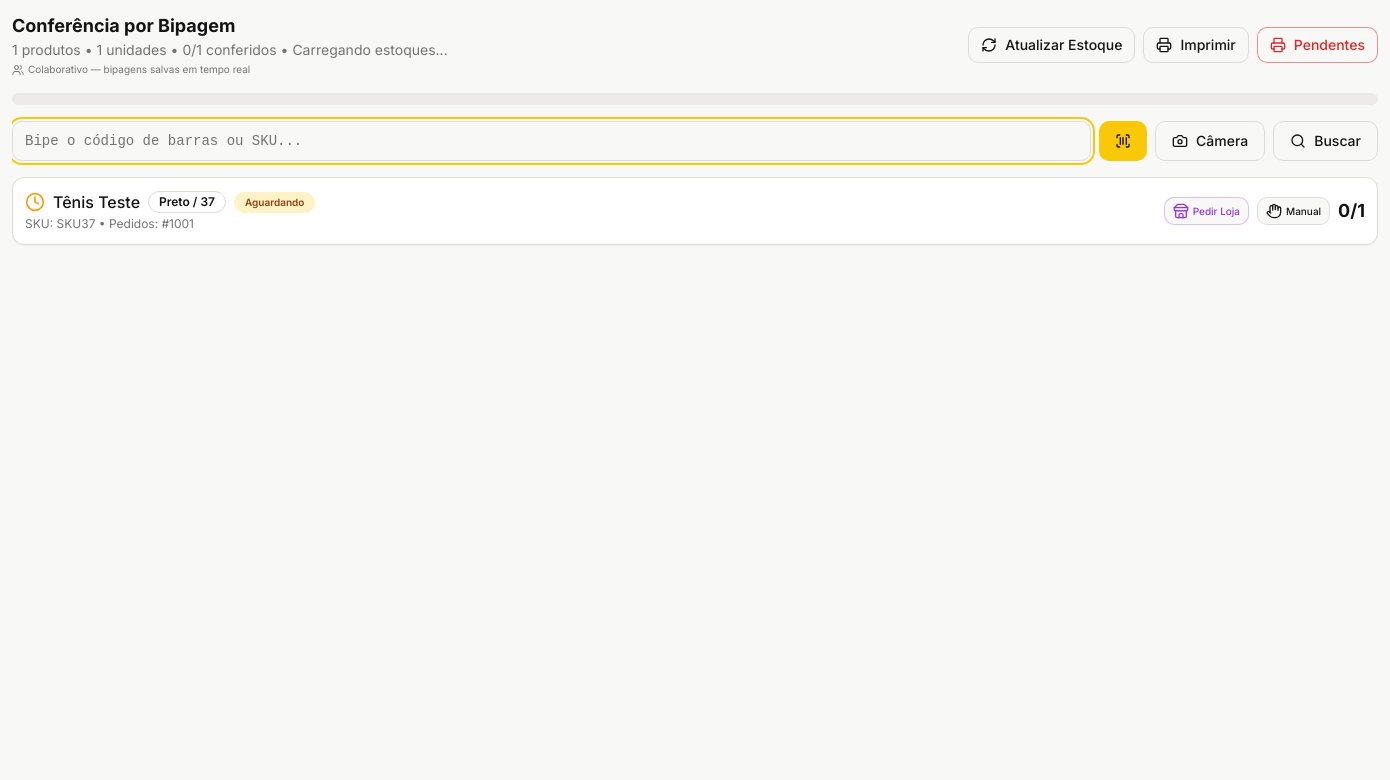
Test: separação clássica e Beta › separação clássica registra confirmação manual
The width and height of the screenshot is (1390, 780).
Later steps or results of the test are not shown.
Click the button titled "Conferir manualmente (sem bipar)". click: (1294, 211)
box: [1257,197,1330,225]
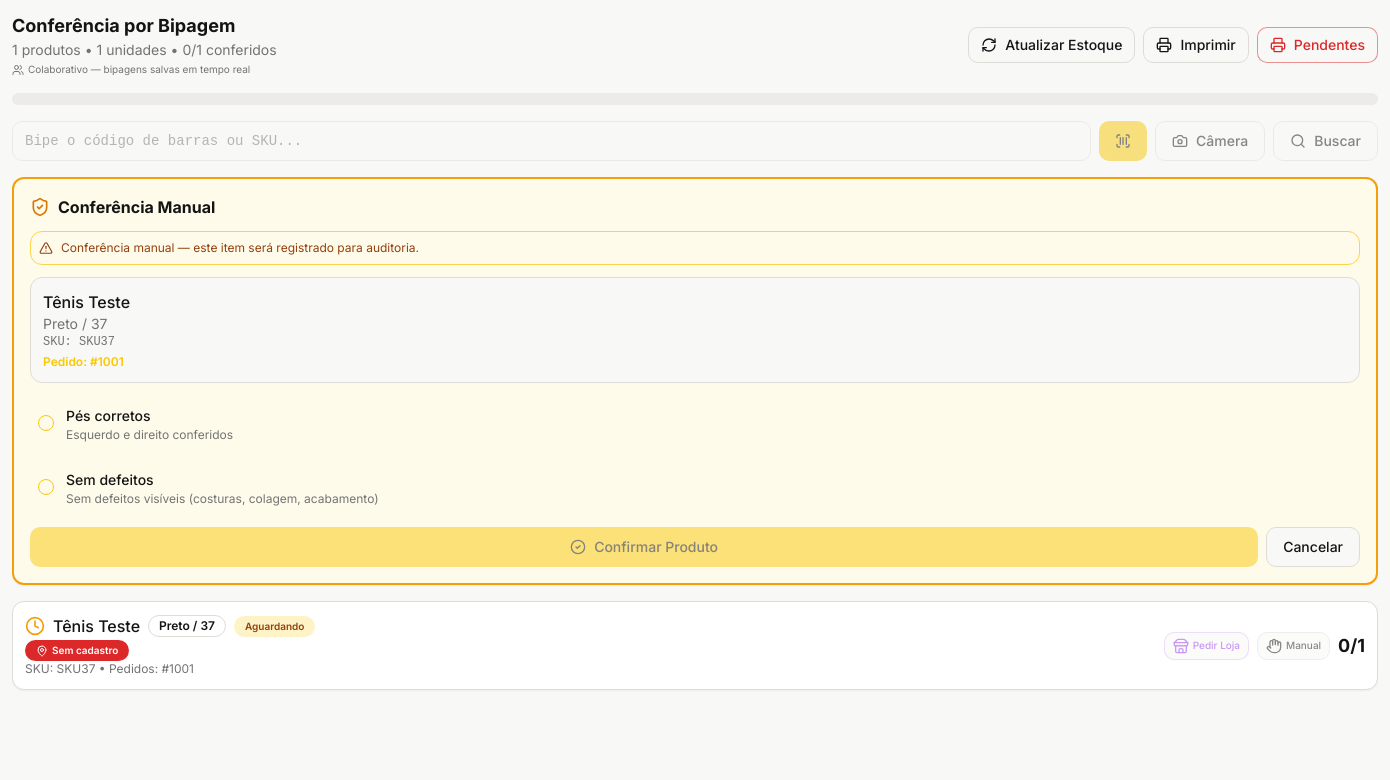
Click the checkbox next to "Pés corretos". click: (46, 423)
box: [38,415,54,431]
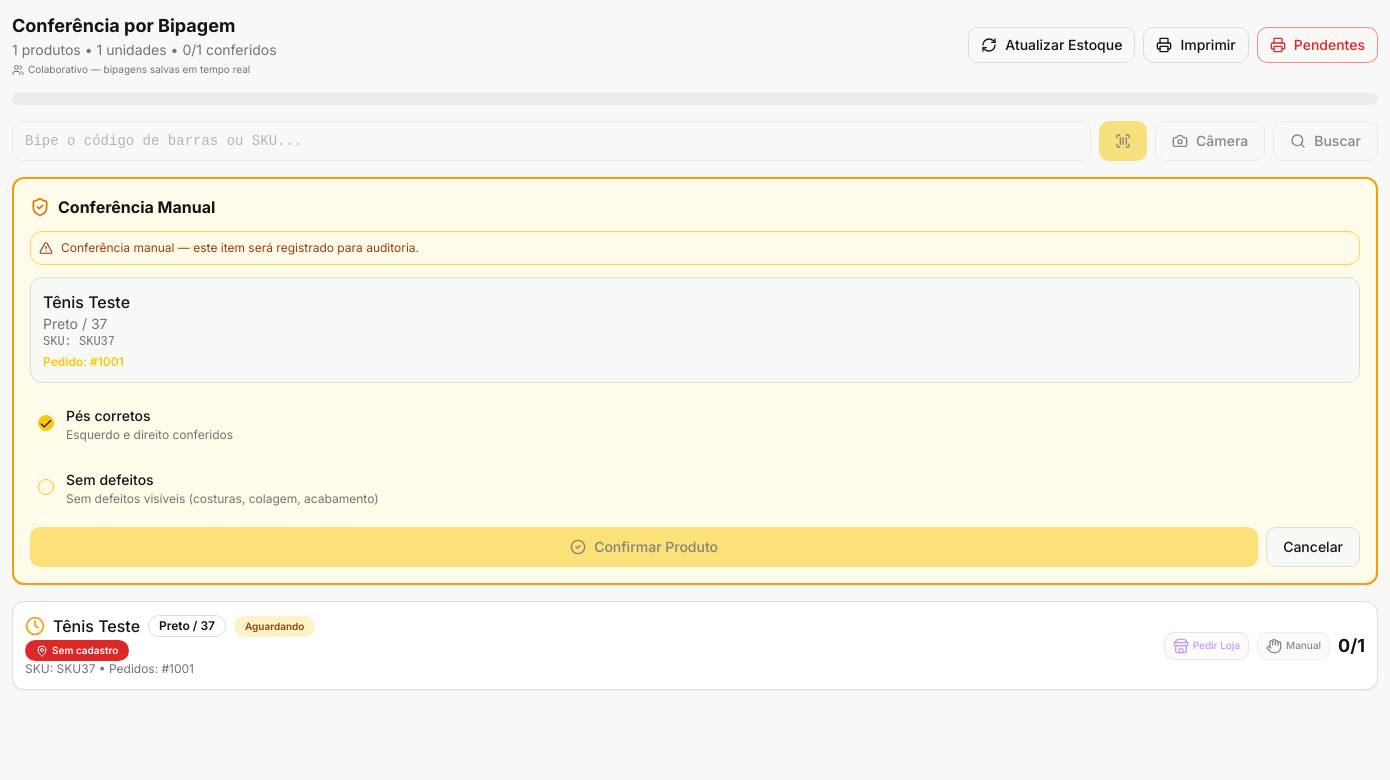
Click the 2nd checkbox. click: (46, 487)
box: [38,479,54,495]
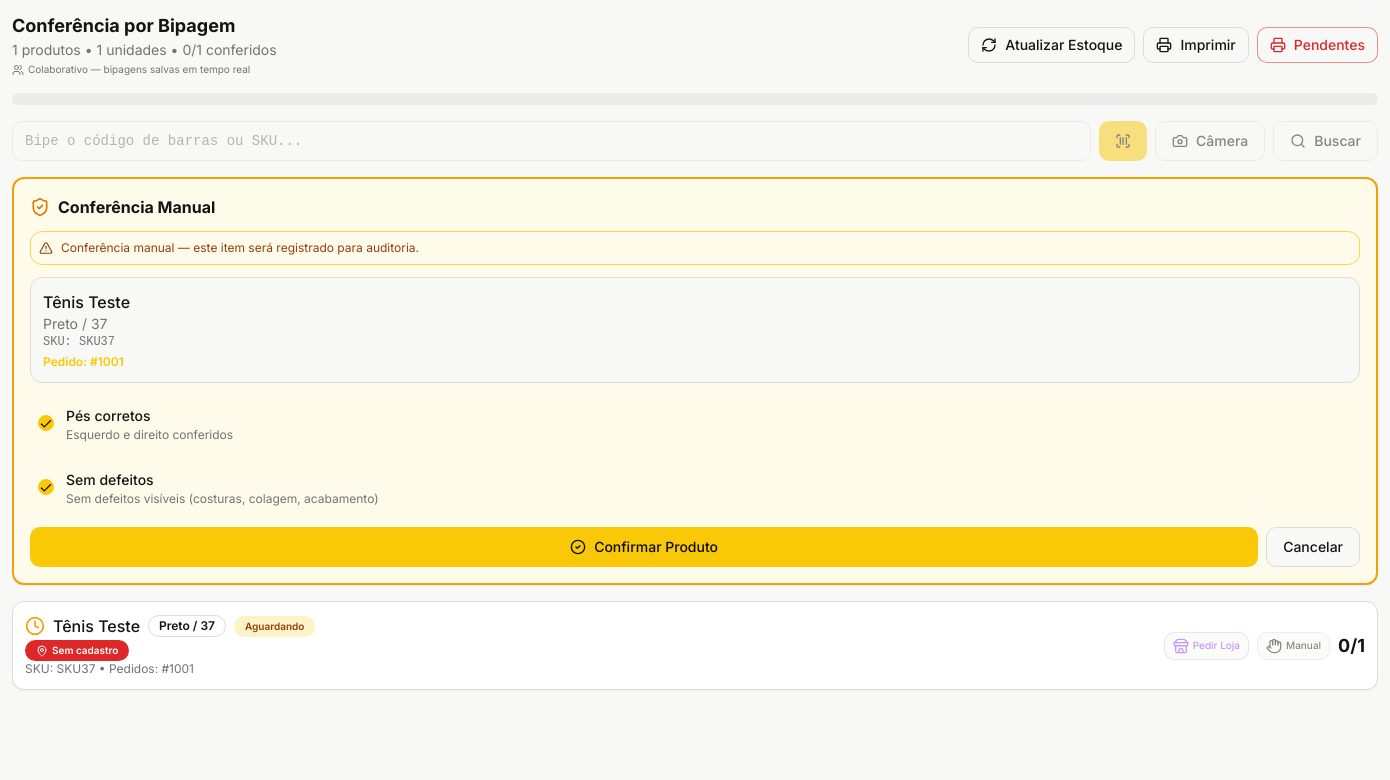
Check: the button "Confirmar Produto" is enabled, box [30,527,1258,567]
